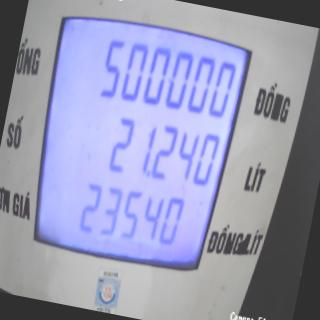screen: (12, 0, 261, 287)
